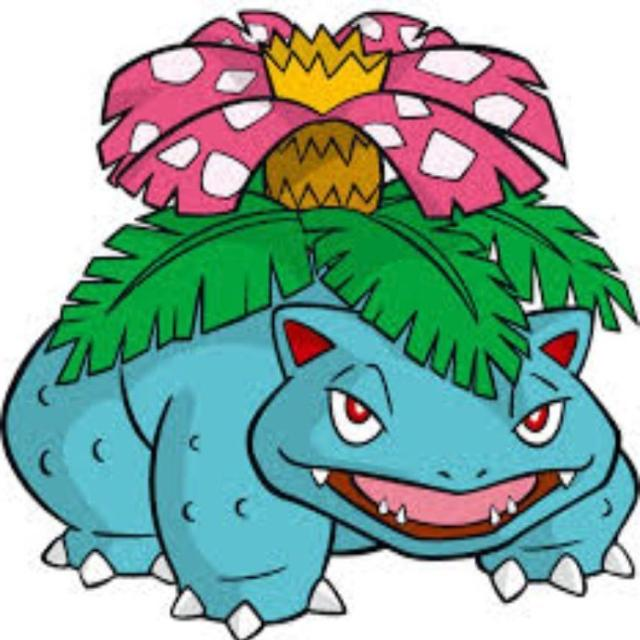Venusaur: (94, 2, 619, 600)
